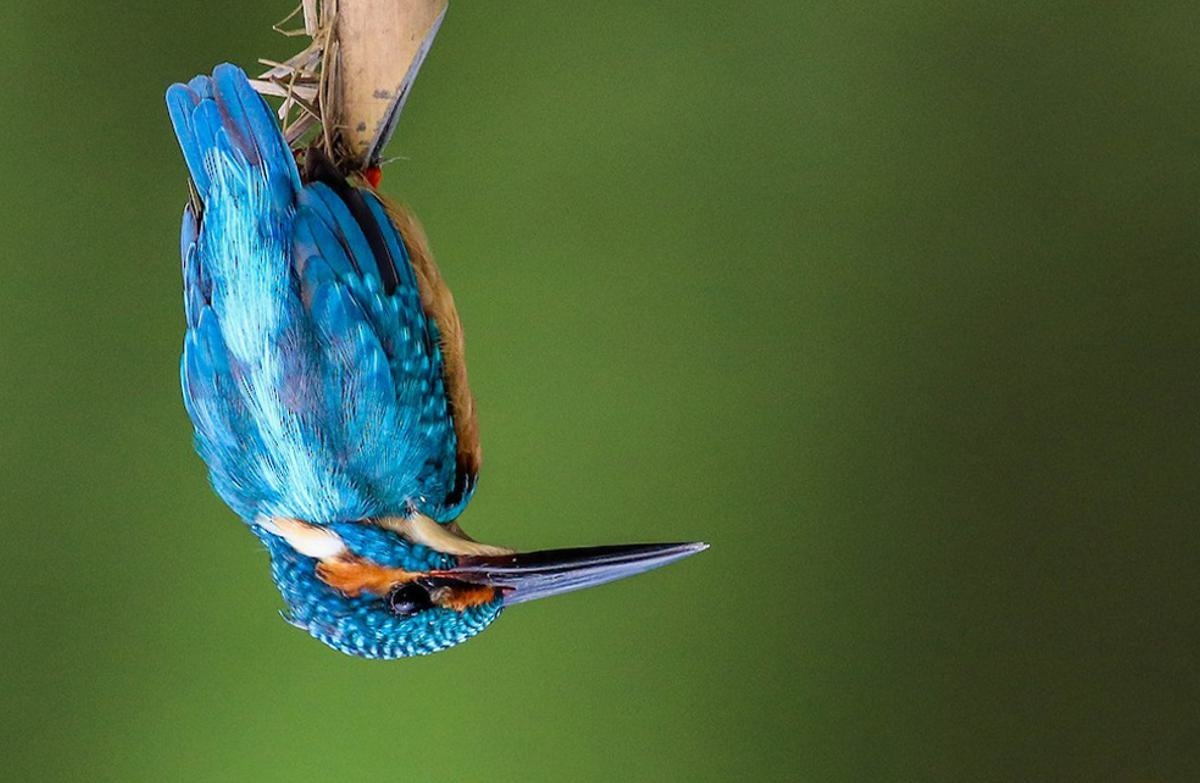kingfisher: (154, 64, 721, 673)
